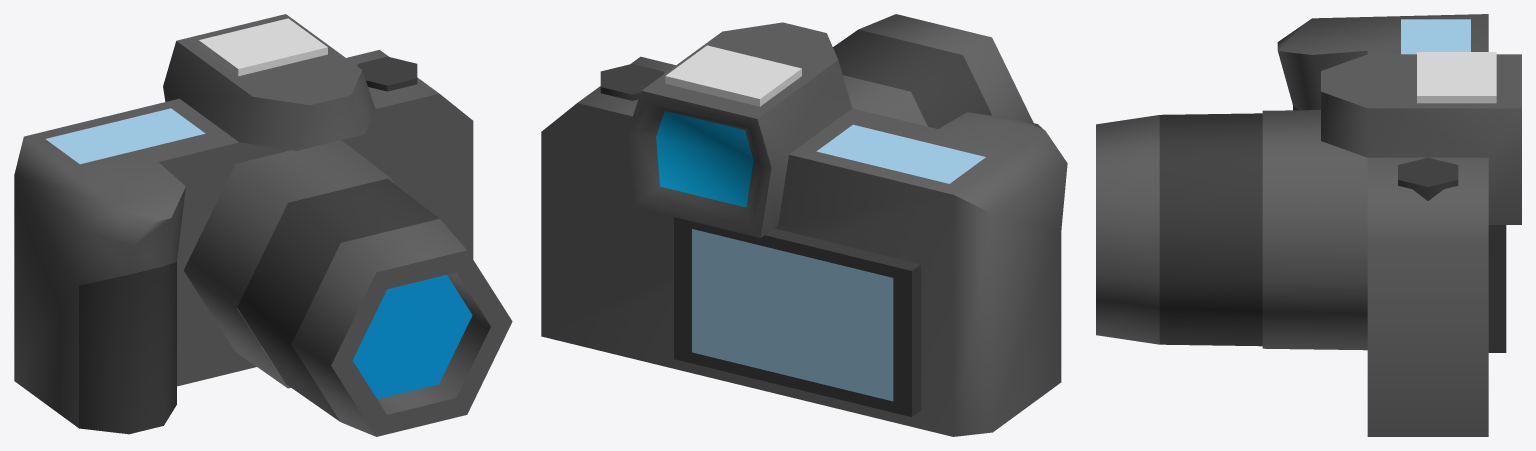
Rendered from SM_camera_001.FBX.
3 views of the same model, side by side, from view 1: azimuth 30°, elevation 25°; view 2: azimuth 150°, elevation 25°; view 3: azimuth 270°, elevation 25° (orthographic). The views are drawn at different scales.
Parts seen in each view (by area): view 1: SM_camera_001; view 2: SM_camera_001; view 3: SM_camera_001.
Part boxes in pixels (left/top/right/bottom): SM_camera_001: left=14, top=14, right=512, bottom=436; SM_camera_001: left=541, top=14, right=1067, bottom=436; SM_camera_001: left=1096, top=14, right=1521, bottom=436.
Size of the model in its own units: 15.8 by 13.98 by 10.19.
